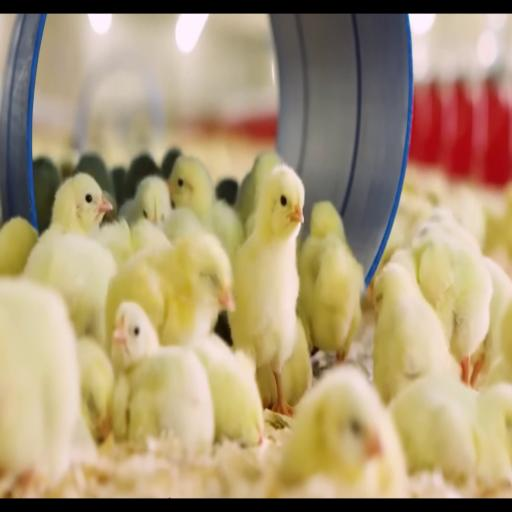chick: (229, 165, 304, 415), (279, 366, 406, 497), (0, 278, 79, 482), (105, 234, 233, 345), (390, 375, 511, 486), (412, 229, 492, 384), (373, 263, 459, 402), (114, 347, 214, 456), (298, 202, 364, 361), (24, 233, 117, 343), (390, 375, 478, 483), (193, 335, 263, 446), (303, 235, 364, 362), (168, 156, 244, 256), (366, 191, 432, 303), (111, 302, 159, 440), (471, 257, 511, 386), (77, 338, 114, 442), (51, 174, 112, 234), (93, 219, 170, 266), (236, 151, 282, 225), (478, 383, 511, 486), (111, 302, 159, 371), (410, 207, 480, 252), (75, 153, 118, 224), (282, 318, 312, 406), (120, 176, 171, 224), (448, 185, 485, 247), (485, 301, 511, 386), (0, 217, 37, 276), (33, 157, 60, 232), (75, 153, 115, 197), (124, 154, 159, 201), (163, 208, 207, 242), (310, 202, 346, 241), (389, 249, 417, 282), (161, 147, 182, 180), (111, 166, 126, 209), (216, 178, 238, 206), (214, 312, 232, 346), (101, 192, 117, 225), (60, 159, 75, 181)
